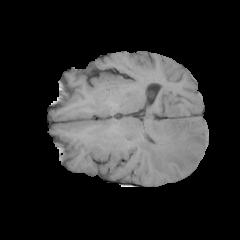glioma: (135, 119, 205, 176)
